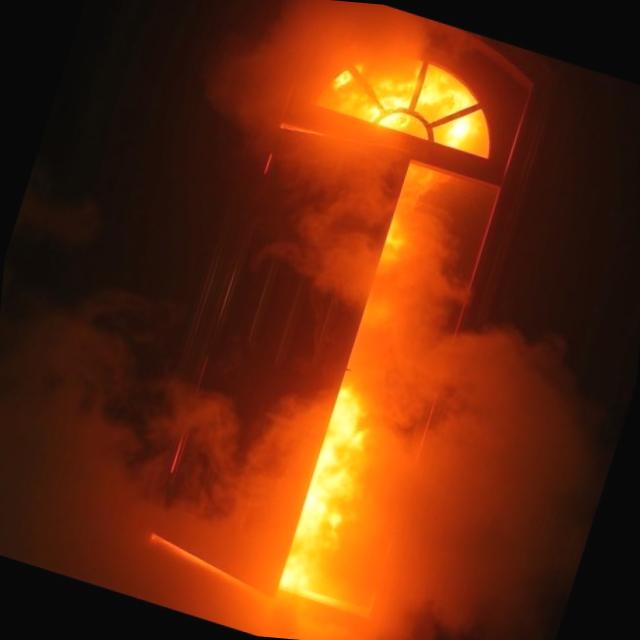fire: (90, 0, 587, 640)
